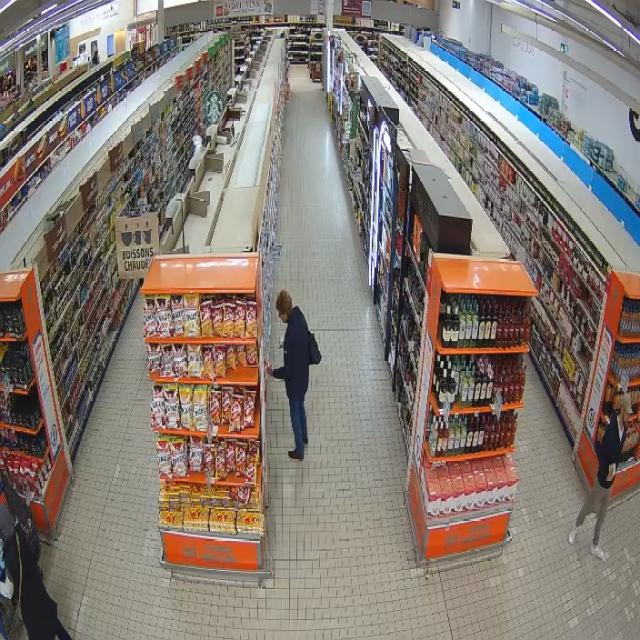article: (263, 360, 275, 369), (609, 463, 616, 475)
bags: (0, 549, 28, 639), (309, 333, 321, 364)
hands: (265, 361, 273, 377), (608, 464, 615, 480)
person: (570, 394, 631, 560), (0, 505, 70, 639), (268, 290, 309, 460)
